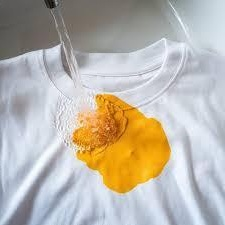mustard: (79, 97, 171, 192), (91, 109, 127, 153), (70, 126, 91, 150)
